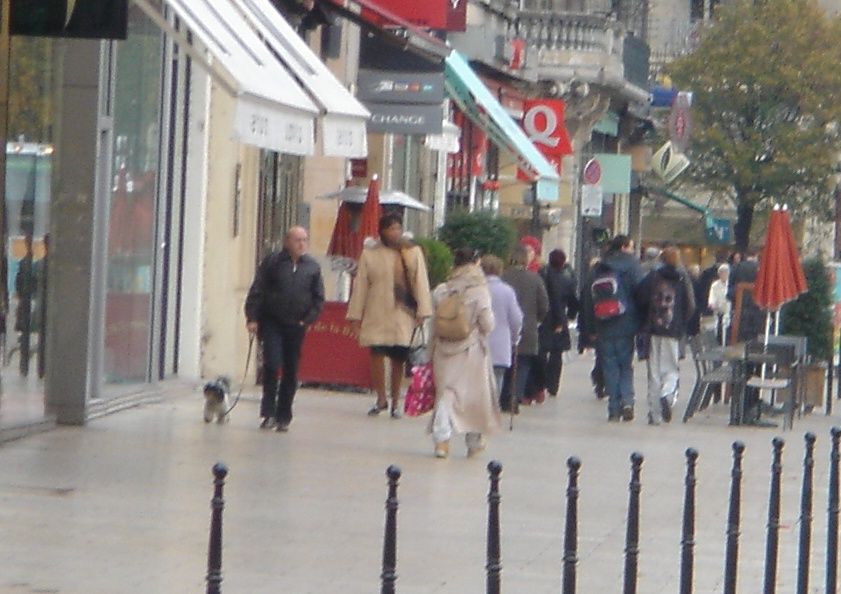person: (352, 208, 430, 418), (250, 220, 325, 431), (430, 242, 500, 460), (592, 231, 646, 420), (640, 243, 695, 423)
